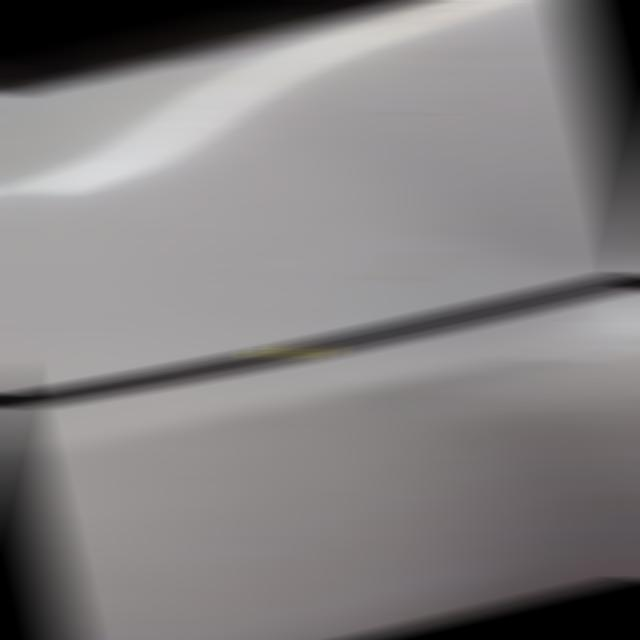yellow: (258, 341, 325, 361)
